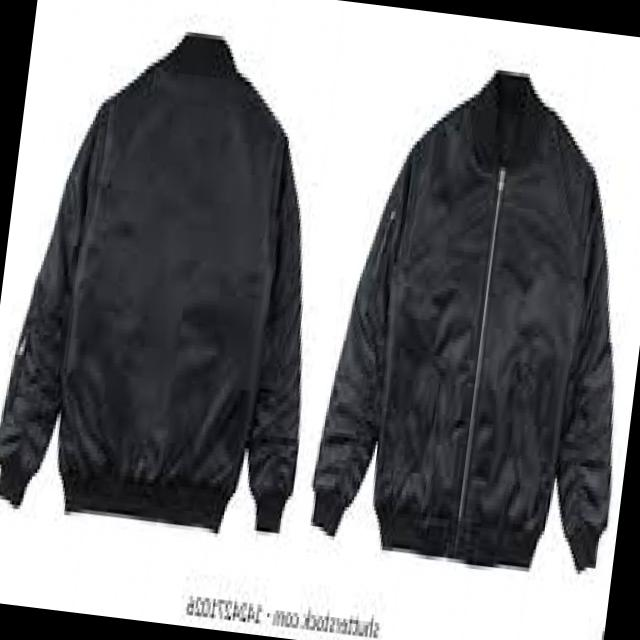Jacket: (0, 2, 332, 559), (321, 63, 640, 575)
